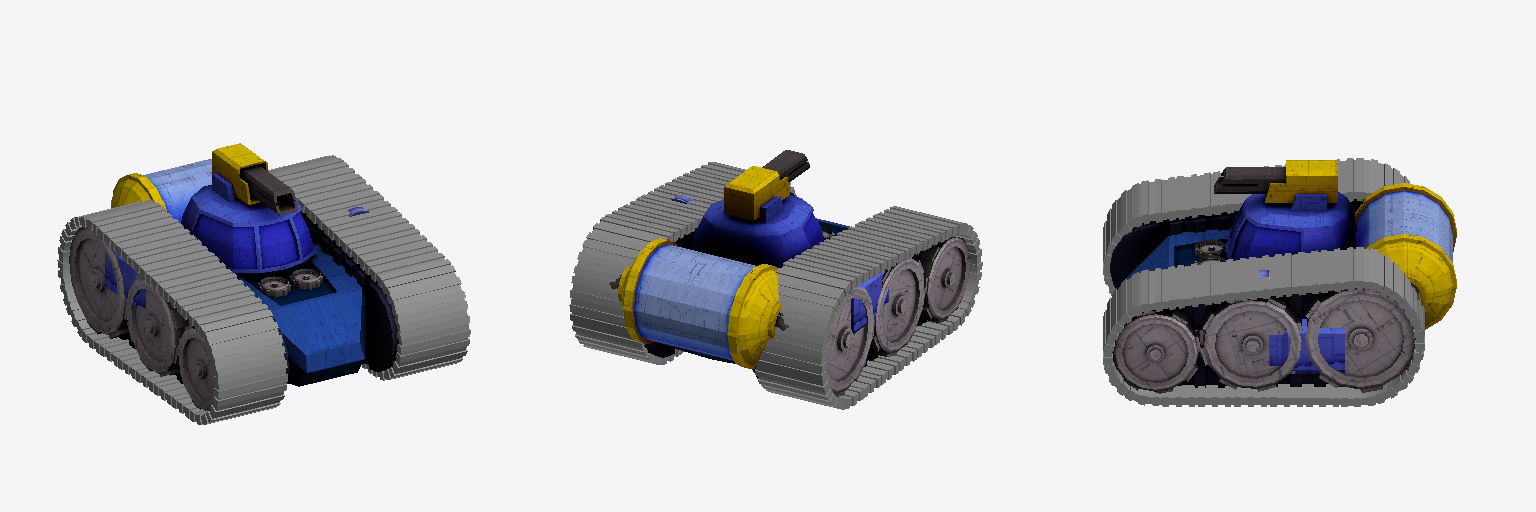
3 renders of one model, left to right at view 1: azimuth 30°, elevation 25°; view 2: azimuth 150°, elevation 25°; view 3: azimuth 270°, elevation 25°, orthographic.
Parts seen in each view (by area): view 1: Object005; view 2: Object005; view 3: Object005.
Boxes of the visible parts, <box> form: Object005: <box>57,143,470,424</box>; Object005: <box>569,150,982,409</box>; Object005: <box>1103,158,1456,406</box>.
Size of the model in its own units: 121 by 82.18 by 147.
Materials: 2 (1 with a texture image).